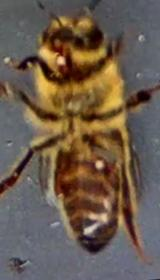varroa_mite: (82, 150, 130, 178)
